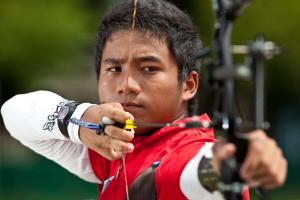person: (2, 3, 289, 200)
